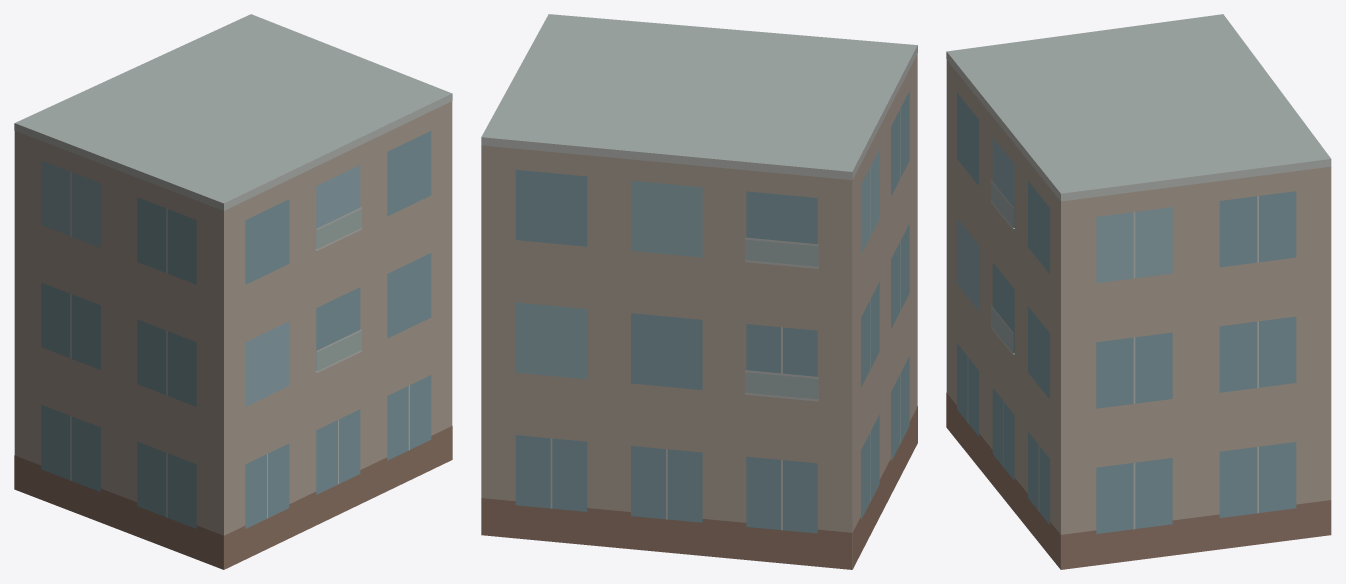
The model's file is survey-upis-32838866.glb.
The picture shows the model from 3 angles, left to right: view 1: azimuth 30°, elevation 25°; view 2: azimuth 150°, elevation 25°; view 3: azimuth 270°, elevation 25°; orthographic projection. The views are drawn at different scales.
Visible parts, largest first — view 1: survey-upis-32838866.tmp; view 2: survey-upis-32838866.tmp; view 3: survey-upis-32838866.tmp.
Part boxes in pixels (box(x1,y1,x2,y2)): survey-upis-32838866.tmp: box(14, 14, 452, 569); survey-upis-32838866.tmp: box(481, 14, 917, 569); survey-upis-32838866.tmp: box(946, 14, 1331, 569).
Bounding box in the file's own units: 12.21 × 11.9 × 11.04.
